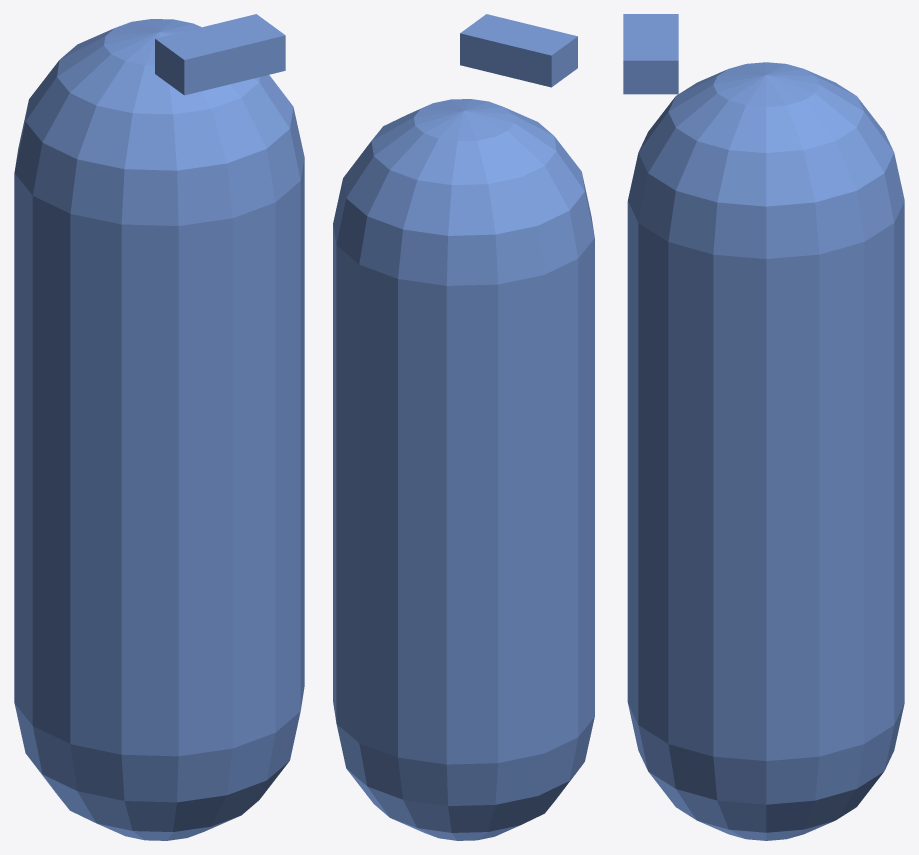
Rendered from wilson.glb.
3 views of the same model, side by side, from view 1: azimuth 30°, elevation 25°; view 2: azimuth 150°, elevation 25°; view 3: azimuth 270°, elevation 25° (orthographic). The views are drawn at different scales.
Parts seen in each view (by area): view 1: GEO_wilson; view 2: GEO_wilson; view 3: GEO_wilson.
Part boxes in pixels (x1,y1,x2,y2): GEO_wilson: [14, 14, 304, 840]; GEO_wilson: [333, 14, 594, 840]; GEO_wilson: [623, 14, 904, 840].
Bounding box in the file's own units: 0.6 × 1.89 × 0.61.
